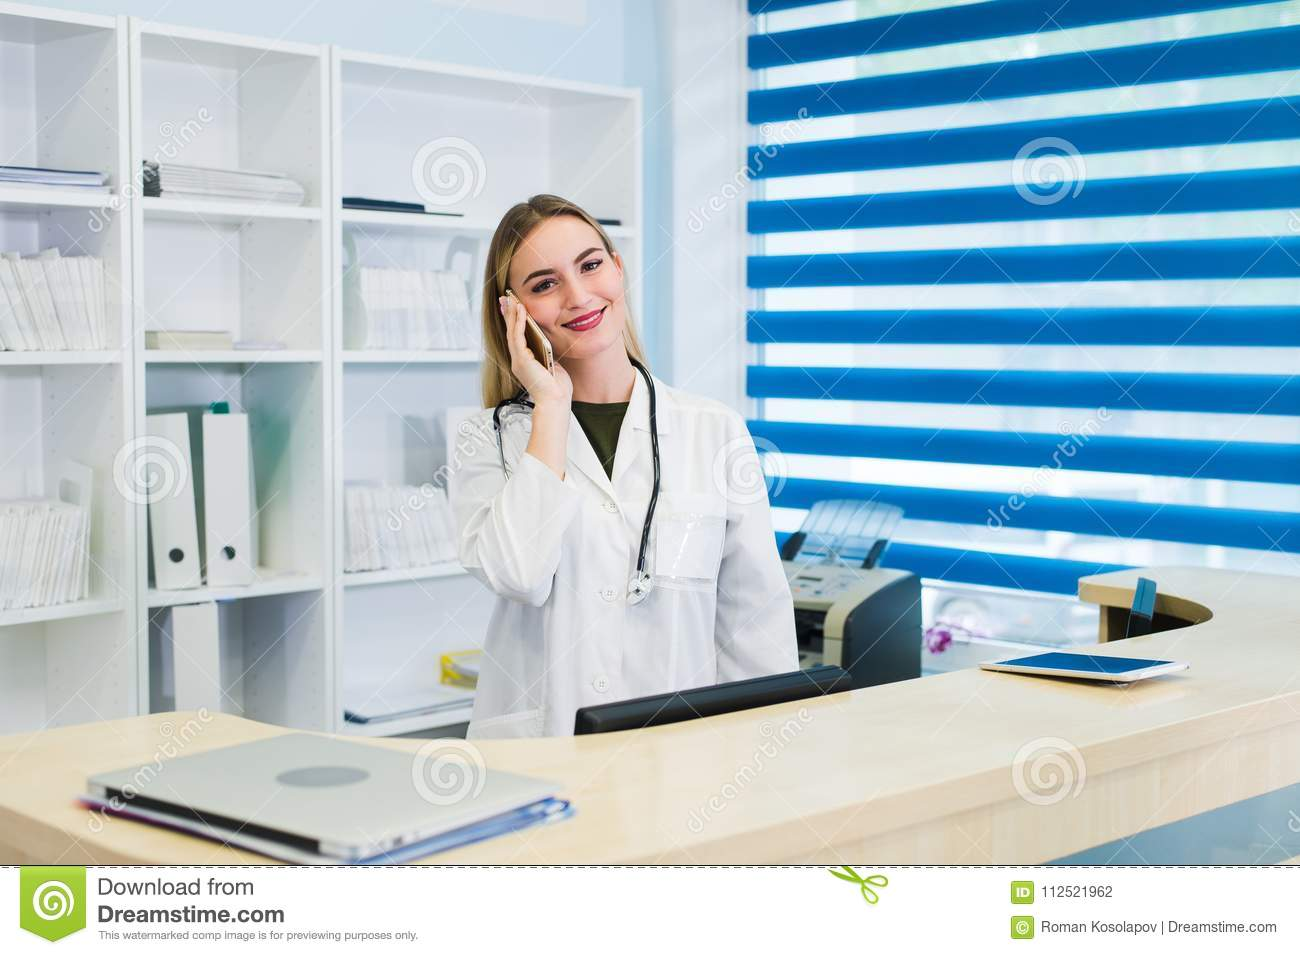phone: (502, 286, 559, 380)
talk: (497, 248, 622, 414)
